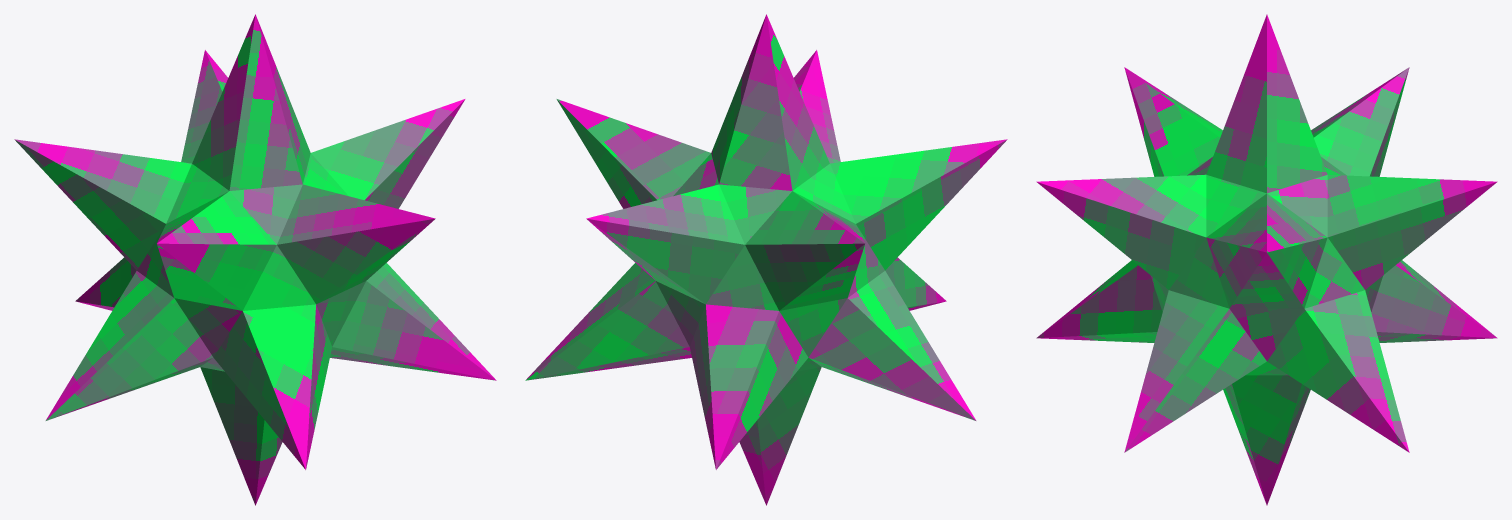
File: BarnacleProjectile.fbx
3 renders of one model, left to right at view 1: azimuth 30°, elevation 25°; view 2: azimuth 150°, elevation 25°; view 3: azimuth 270°, elevation 25°, orthographic.
Visible parts, largest first — view 1: Icosphere; view 2: Icosphere; view 3: Icosphere.
Boxes of the visible parts, bbox=[...] form: Icosphere: bbox=[14, 14, 496, 505]; Icosphere: bbox=[525, 14, 1007, 505]; Icosphere: bbox=[1036, 14, 1497, 505].
Size of the model in its own units: 89.44 by 100 by 85.06.
